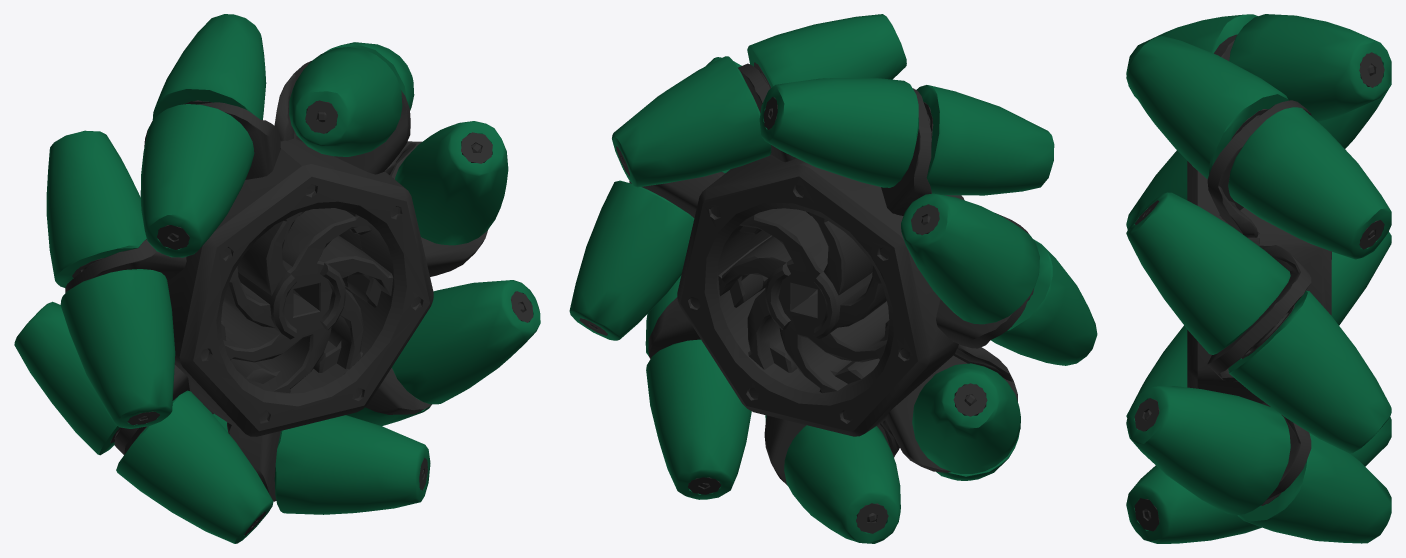
Rendered from 4_Mecanum_Wheel_Right.glb.
3 views of the same model, side by side, from view 1: azimuth 30°, elevation 25°; view 2: azimuth 150°, elevation 25°; view 3: azimuth 270°, elevation 25° (orthographic). The views are drawn at different scales.
Parts seen in each view (by area): view 1: 4 Mecanum Wheel Right; view 2: 4 Mecanum Wheel Right; view 3: 4 Mecanum Wheel Right.
Part boxes in pixels (x1,y1,x2,y2): 4 Mecanum Wheel Right: (14, 14, 540, 543); 4 Mecanum Wheel Right: (569, 14, 1097, 543); 4 Mecanum Wheel Right: (1126, 14, 1391, 543).
Size of the model in its own units: 4.05 by 4.05 by 2.03.
